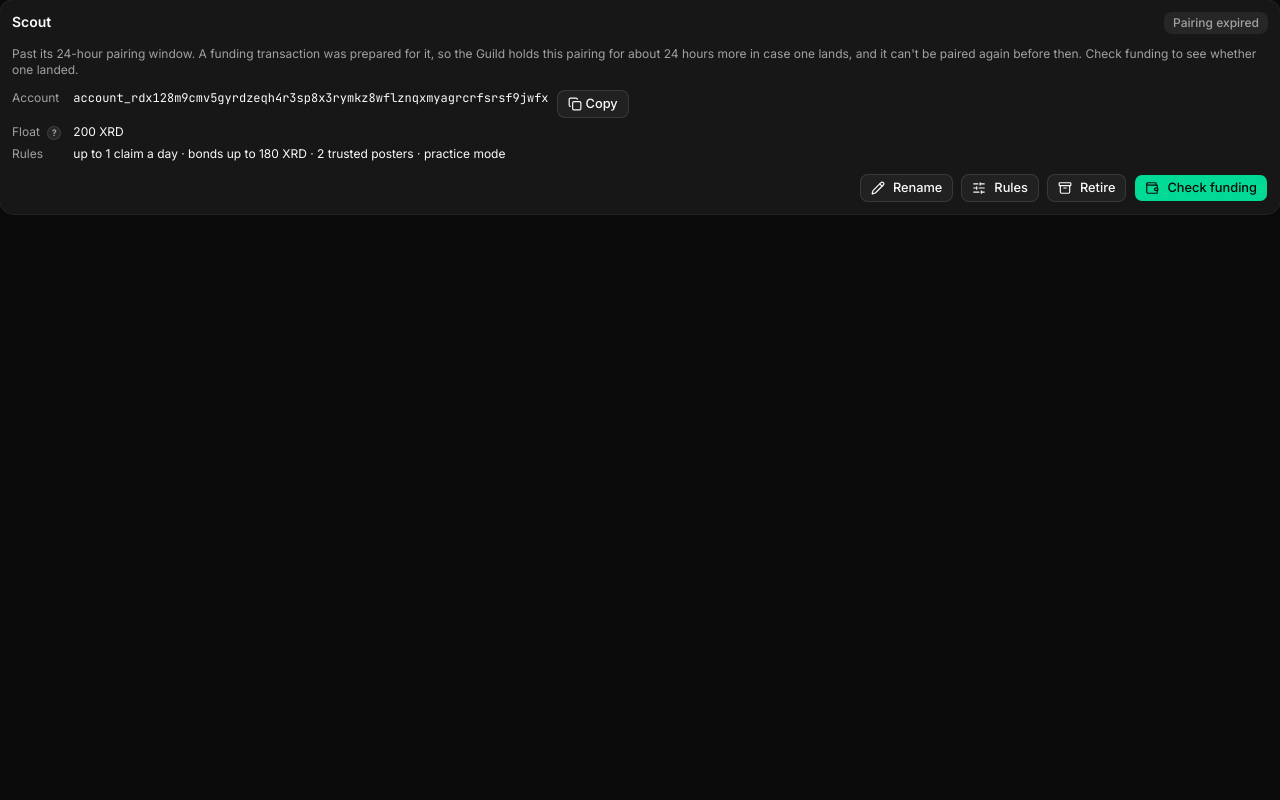
Test: an expired pairing whose funding may still be landing offers 'Check funding' › 🔴 the badge name taken by another account: honest next step, never 'rename, then fund' past the window
This screenshot has width=1280, height=800.
Click the button "Check funding" at (1201, 188), box [1134,174,1268,202]
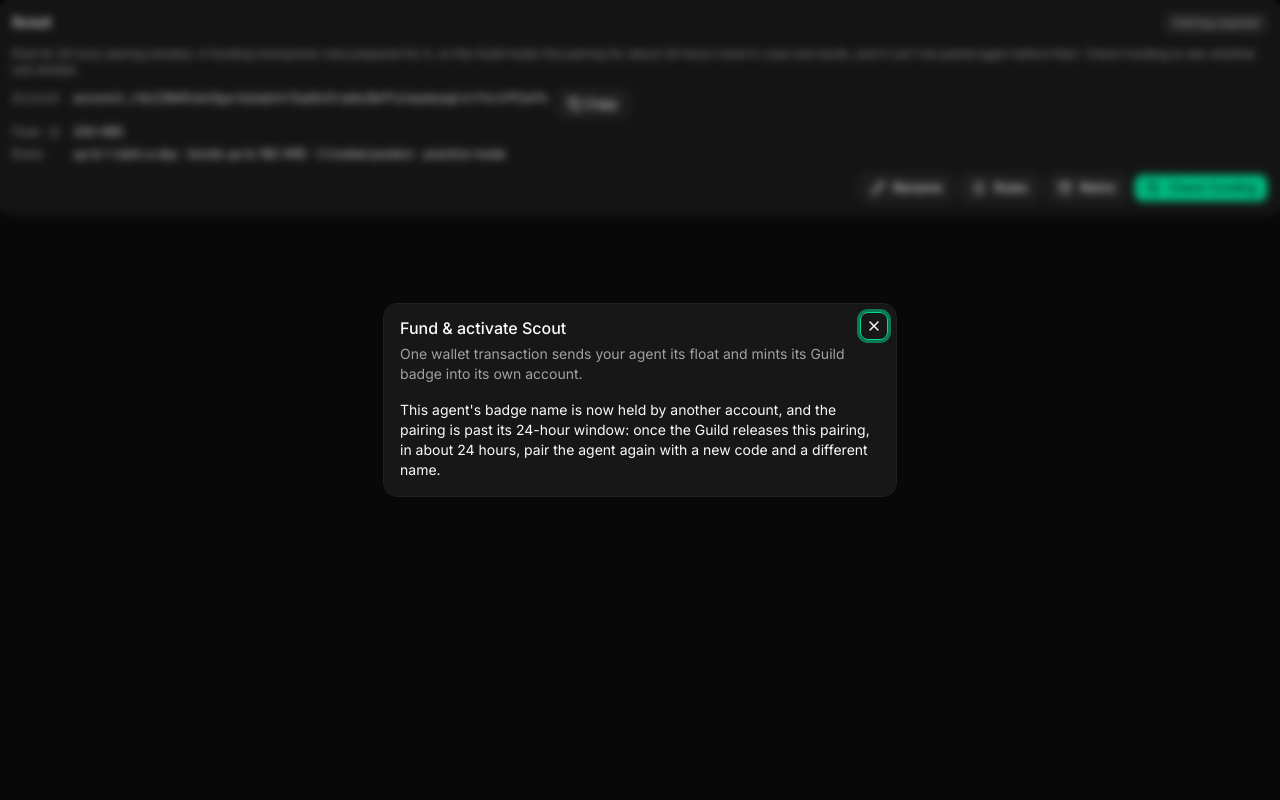
Expected: the message does not show "then fund it", [400,400,880,480]
Result: the message shows "once the Guild releases this pairing" at [400,401,870,478]
Result: the message shows "pair the agent again with a new code and a different name" at [400,401,870,478]
